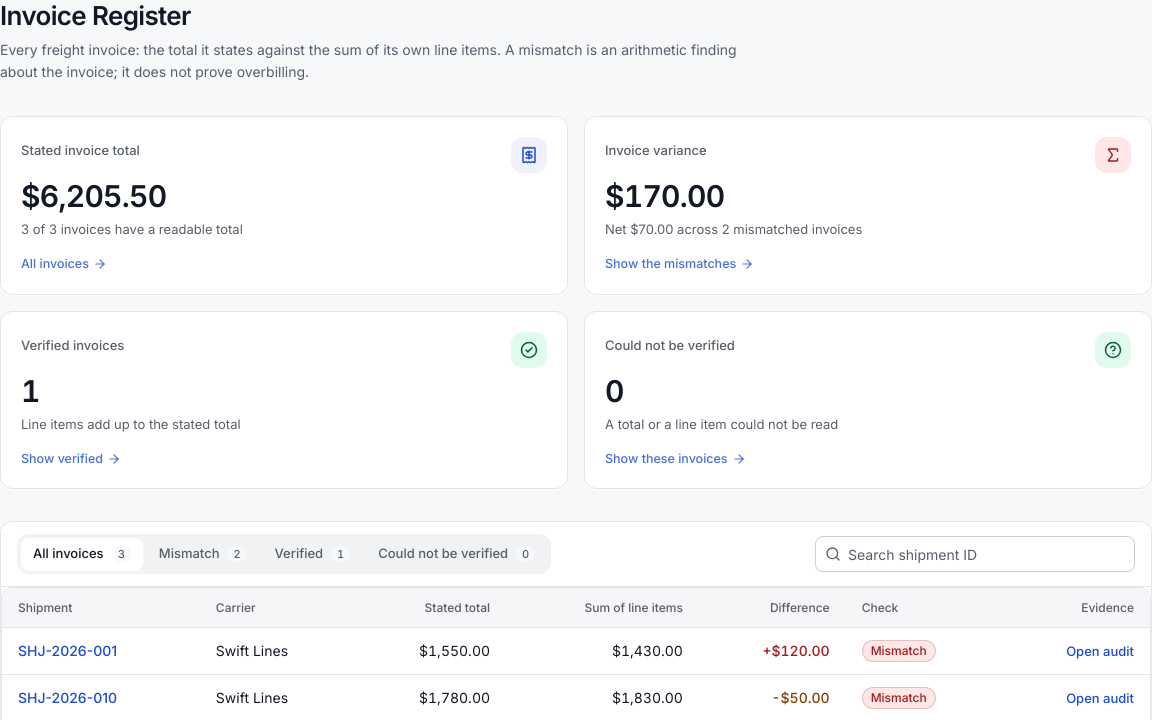
Test: Invoice Register › switches the list with the tabs, still filtered by the server
This screenshot has width=1152, height=720.
Check: the text "+$120.00" is shown, box [762,642,830,659]
Click the tab "Verified 1" at (312, 554), box [263,538,362,570]
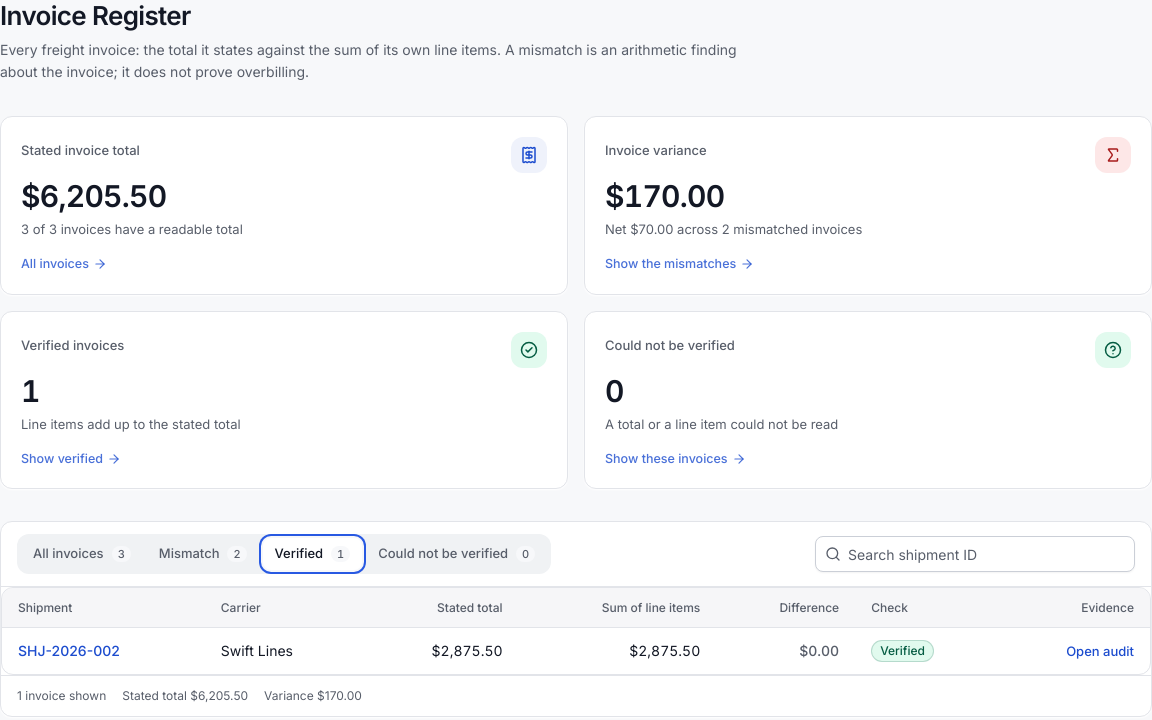
Check: the text "+$120.00" is gone
